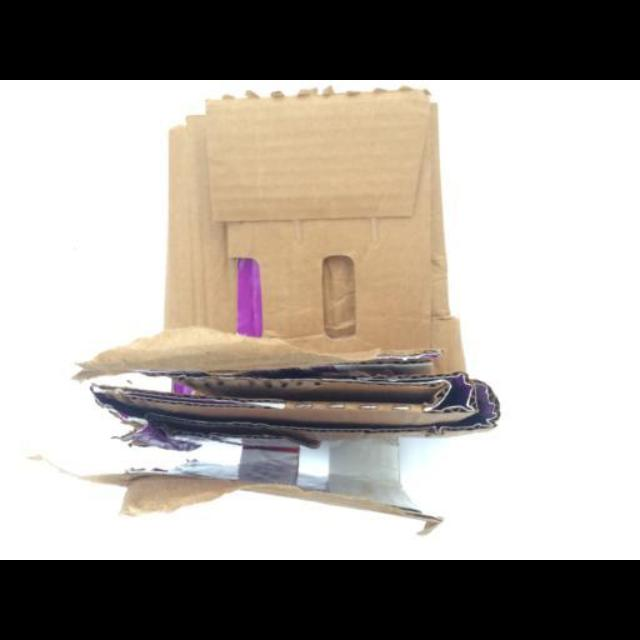papelão: (75, 92, 498, 536)
